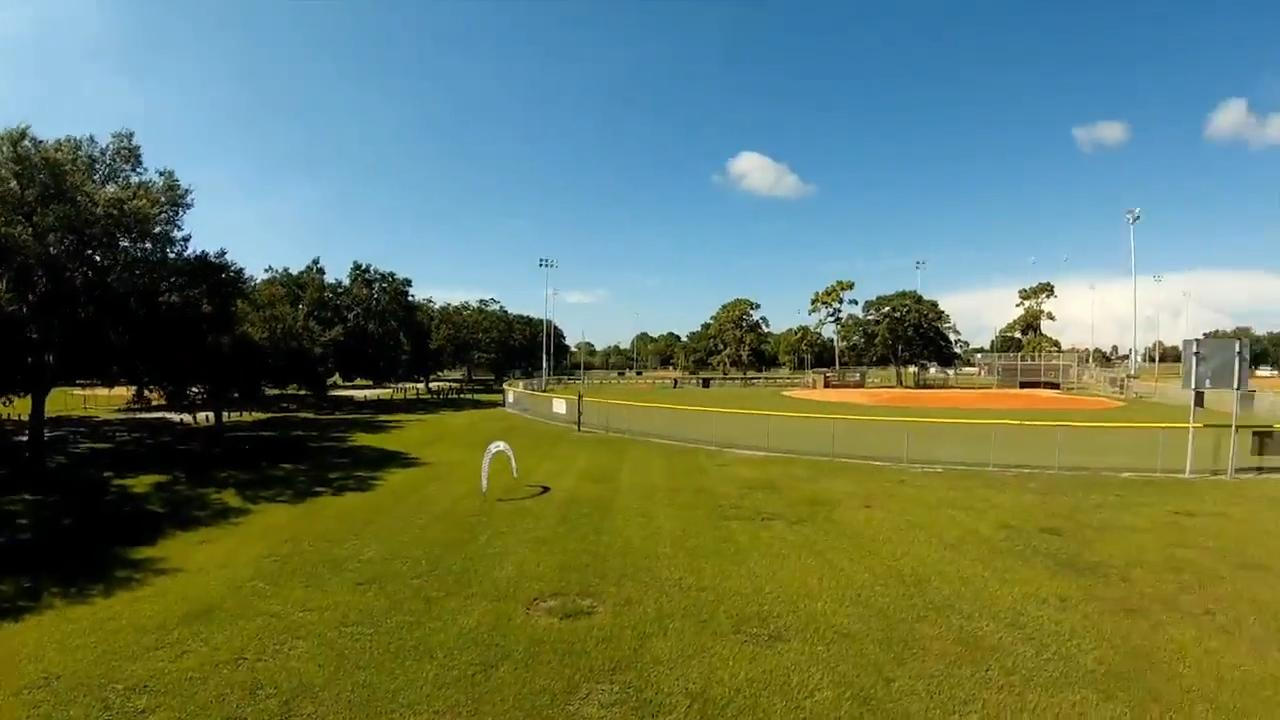gate: (482, 440, 518, 495)
